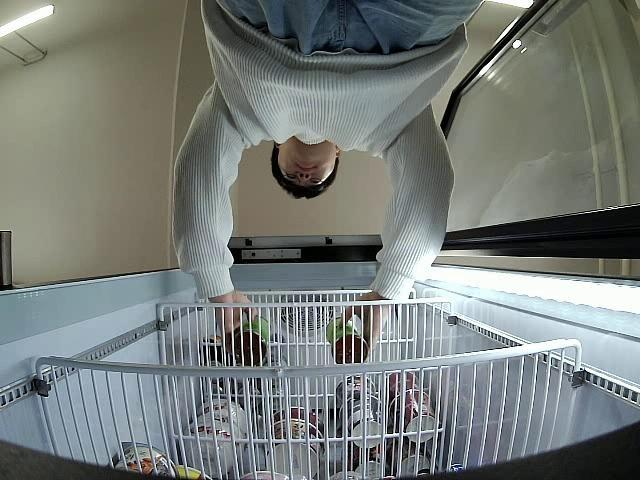19_17cha: (228, 314, 271, 367), (326, 316, 367, 365)
